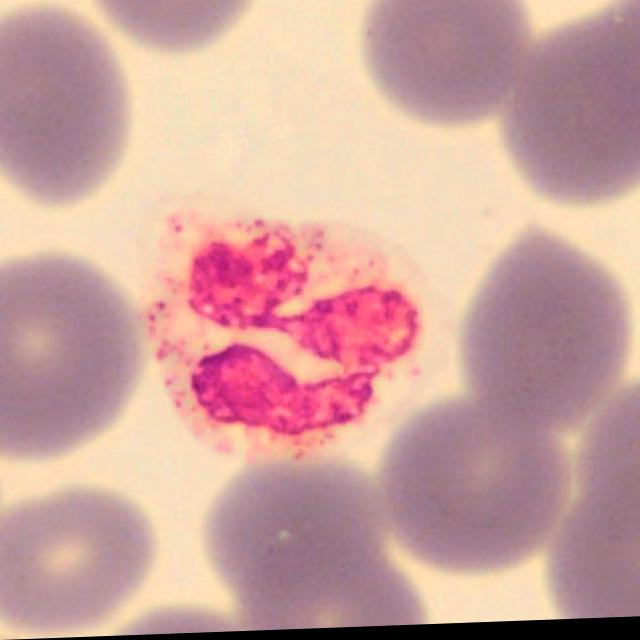Neutrofilo segmentado: (140, 202, 423, 459)
